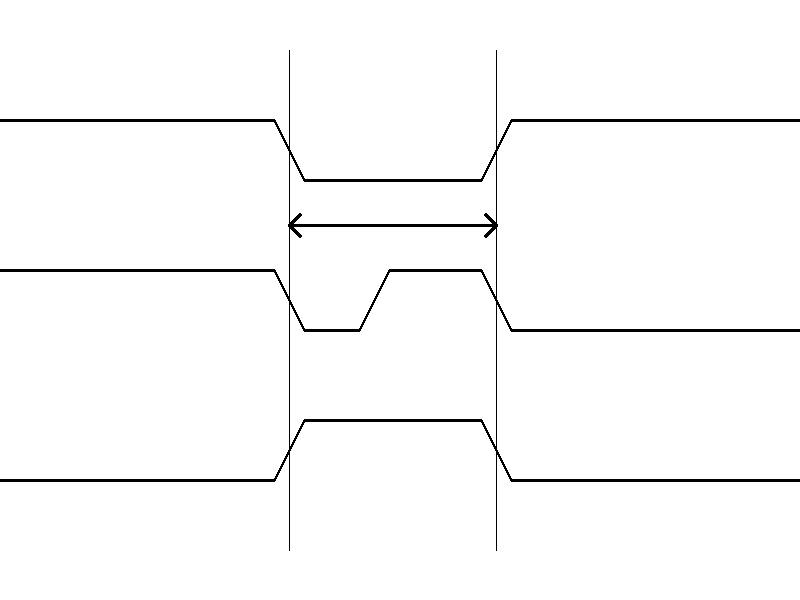double_arrow: (289, 210, 496, 240)
